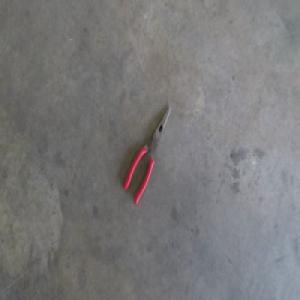Pliers: (122, 105, 171, 204)
